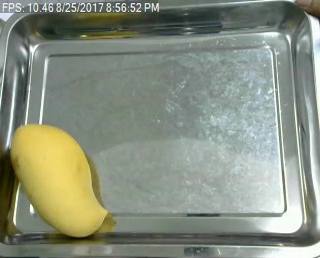Mango: (7, 124, 112, 237)
